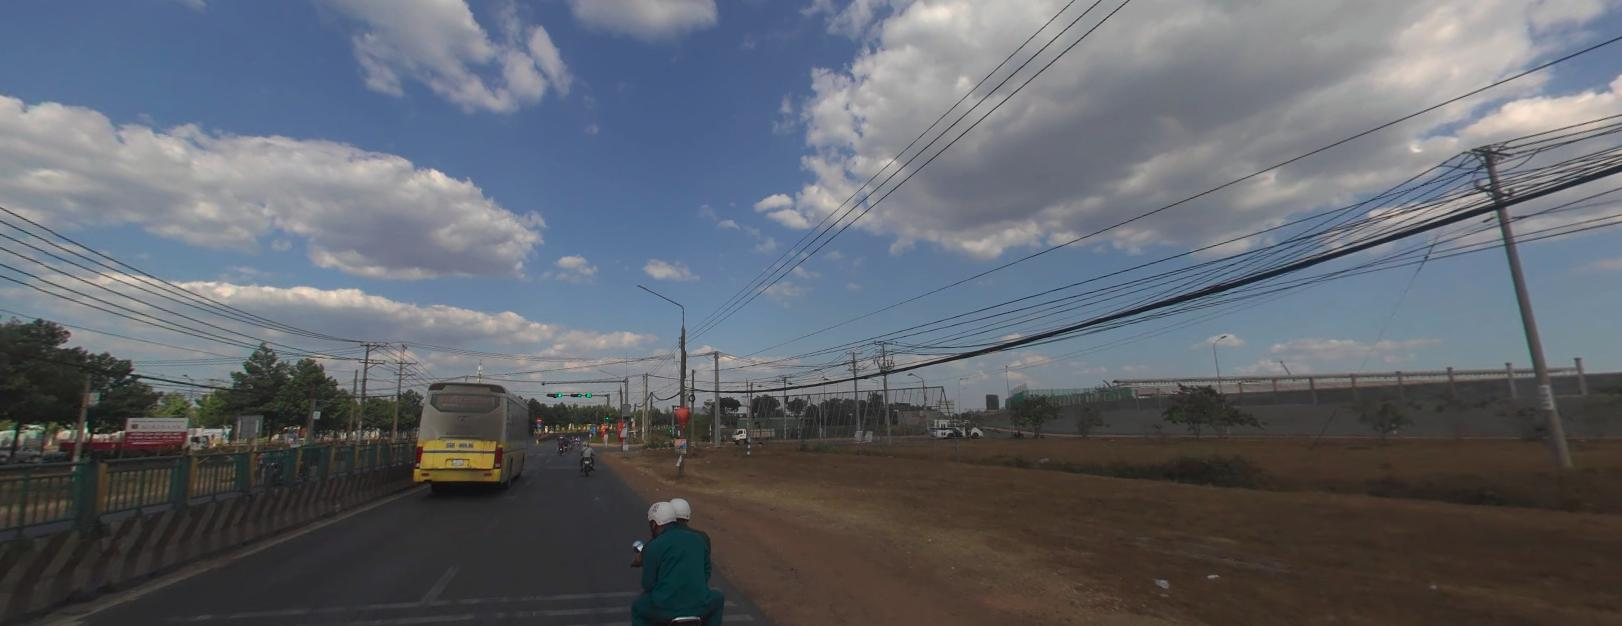Cam nguoc chieu: (535, 416, 541, 421)
Hieu lenh: (535, 421, 541, 426)
